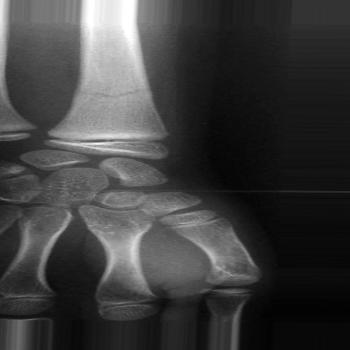Fracture: (66, 81, 156, 103)
